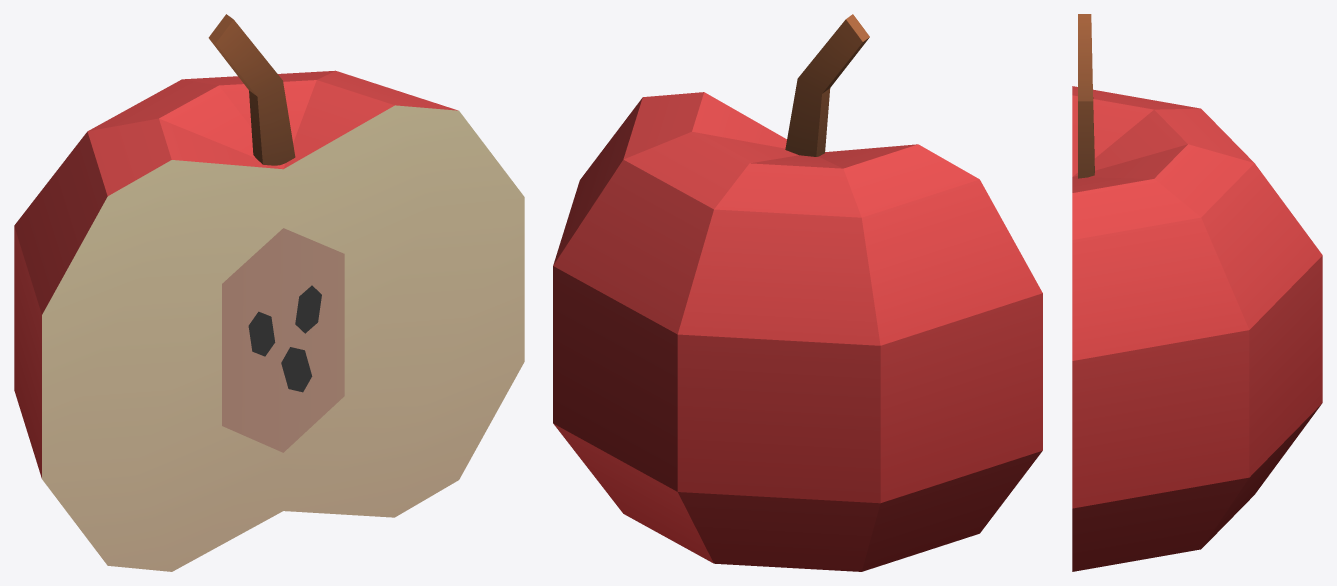
The model's file is Red Apple Half.fbx.
The picture shows the model from 3 angles, left to right: view 1: azimuth 30°, elevation 25°; view 2: azimuth 150°, elevation 25°; view 3: azimuth 270°, elevation 25°; orthographic projection. The views are drawn at different scales.
Parts seen in each view (by area): view 1: Red Apple Half; view 2: Red Apple Half; view 3: Red Apple Half.
Part boxes in pixels (box(x1,y1,x2,y2)): Red Apple Half: box(14, 14, 524, 571); Red Apple Half: box(553, 14, 1042, 571); Red Apple Half: box(1072, 14, 1322, 571).
Bounding box in the file's own units: 17.13 × 18.12 × 8.6.
